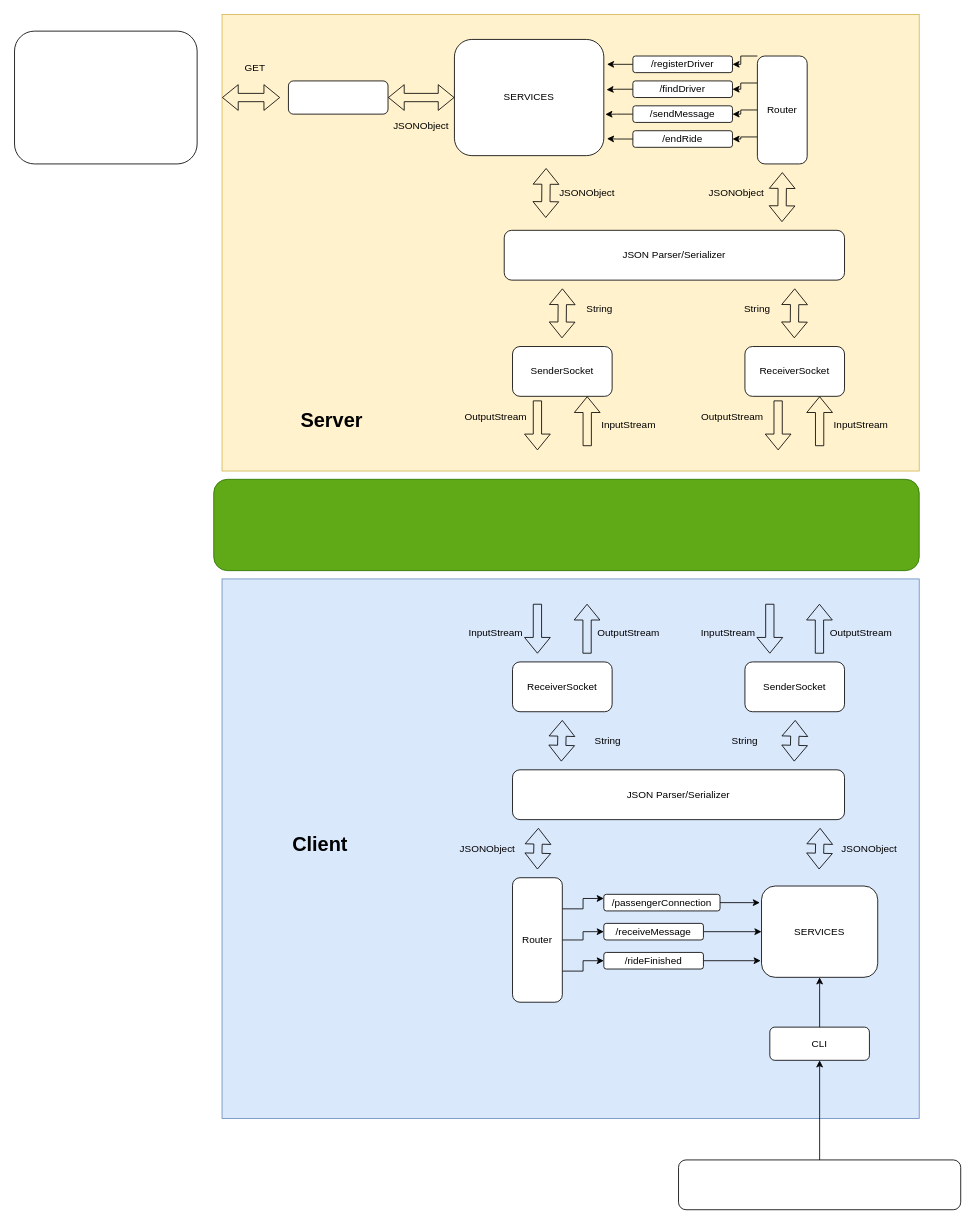
Some shapes in this 975 by 1224 pixel diagram are drawn without their labels. Each missing label, with the centre of its shape:
Geolocation Google API: the point at 105,97
HttpClient: the point at 338,97
NETWORK: the point at 566,524
TERMINAL: the point at 819,1184
